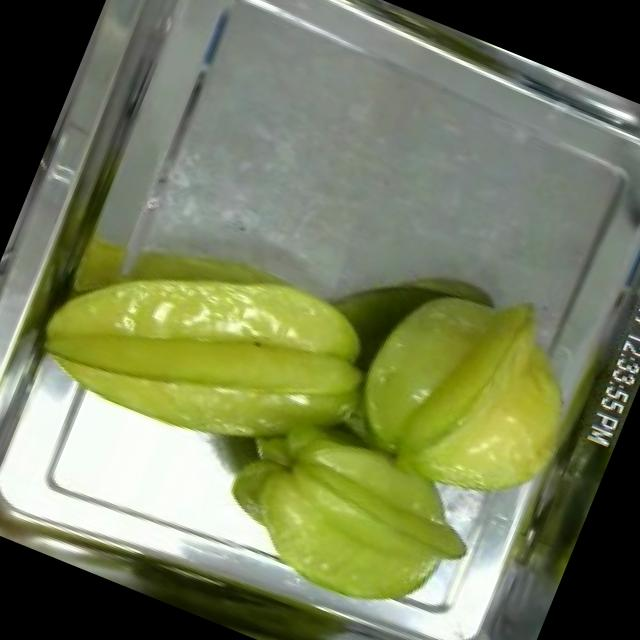fruit: (7, 188, 404, 508), (318, 249, 616, 538), (199, 384, 506, 640)
